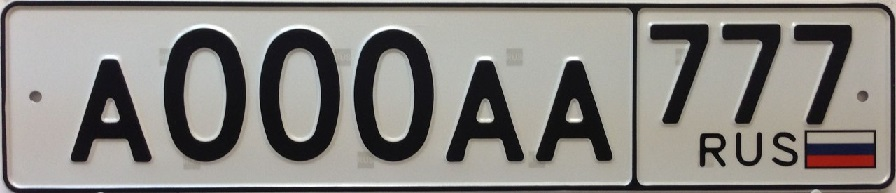number_plate: (16, 2, 889, 183)
